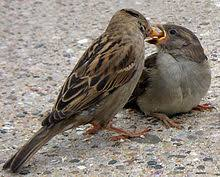hsparrow: (4, 6, 157, 172), (136, 19, 212, 132)
